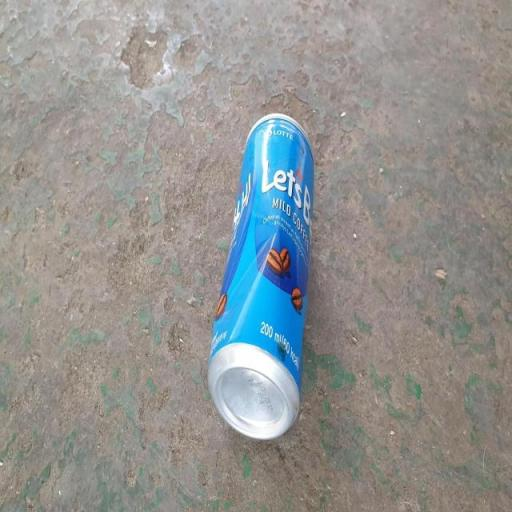metal: (175, 80, 360, 494)
